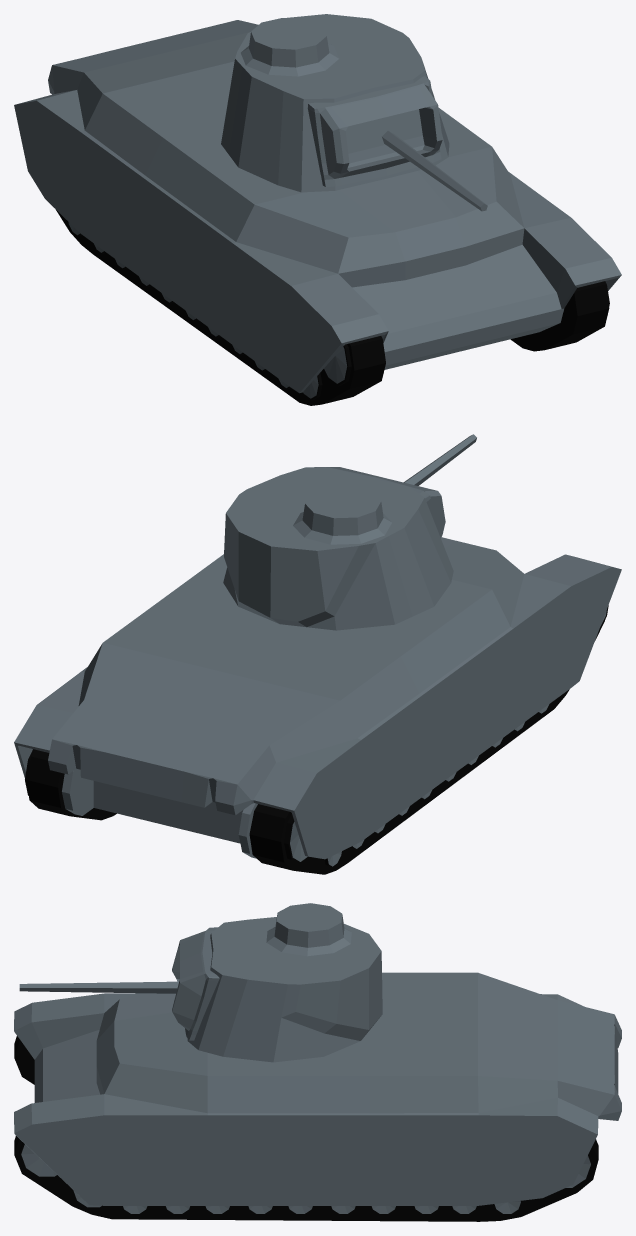
3 views of the same model, one above another, from view 1: azimuth 30°, elevation 25°; view 2: azimuth 150°, elevation 25°; view 3: azimuth 270°, elevation 25° (orthographic). The views are drawn at different scales.
Parts seen in each view (by area): view 1: Plane.005, Cylinder.026, Cylinder.025, Cylinder.029, Cylinder.028, Cylinder.027; view 2: Plane.005, Cylinder.026, Cylinder.025, Cylinder.029, Cylinder.027, Cylinder.028; view 3: Plane.005, Cylinder.026, Cylinder.025, Cylinder.029, Cylinder.027, Cylinder.028.
Part boxes in pixels (box(x1,y1,x2,y2)): Plane.005: box(14, 20, 621, 393); Cylinder.026: box(221, 14, 449, 192); Cylinder.025: box(55, 209, 609, 405); Cylinder.029: box(382, 130, 487, 211); Cylinder.028: box(259, 27, 321, 47); Cylinder.027: box(255, 19, 317, 40); Plane.005: box(14, 537, 621, 859); Cylinder.026: box(223, 467, 453, 630); Cylinder.025: box(25, 605, 608, 874); Cylinder.029: box(403, 434, 476, 485); Cylinder.027: box(310, 495, 371, 516); Cylinder.028: box(315, 489, 376, 509); Plane.005: box(14, 972, 621, 1205); Cylinder.026: box(172, 903, 382, 1062); Cylinder.025: box(14, 1036, 598, 1221); Cylinder.029: box(19, 981, 178, 993); Cylinder.027: box(308, 905, 338, 929); Cylinder.028: box(281, 904, 310, 929).
Bounding box in the file's own units: 309 × 280 × 651.
